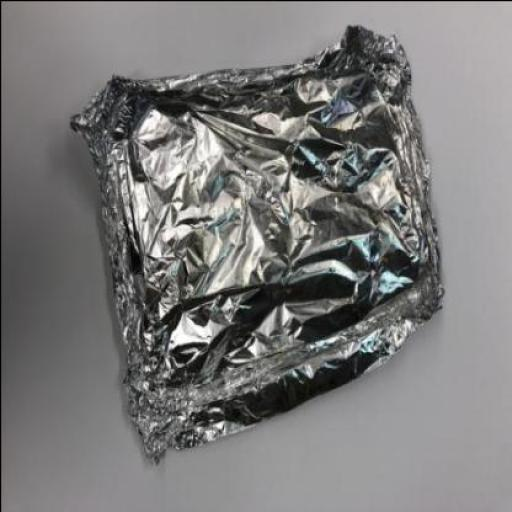metal: (70, 20, 446, 462)
